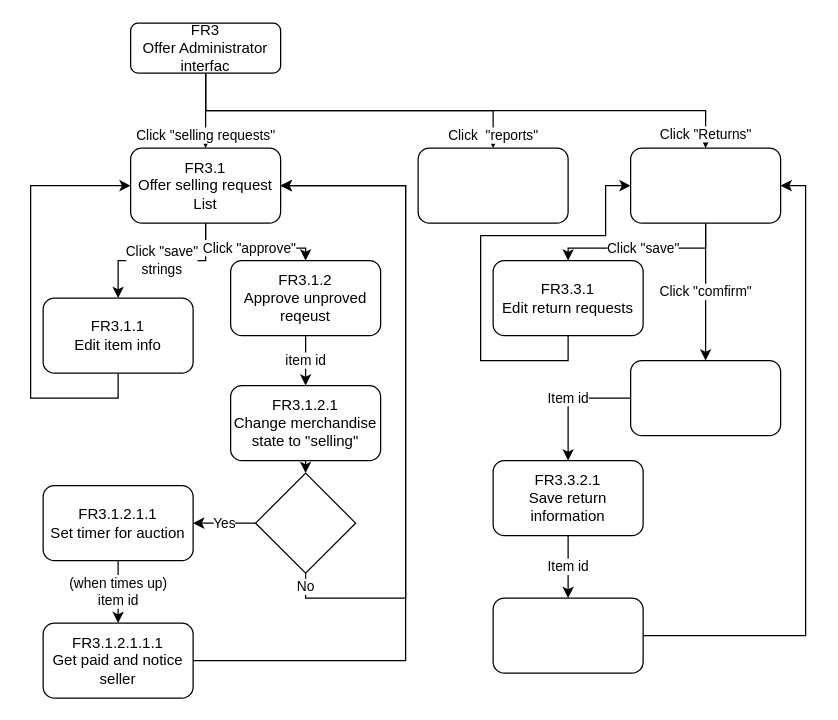
Some shapes in this 838 by 720 pixel diagram are drawn without their labels. The box of each missing label's shape, as (x1, y1, x2, y2) in pixels:
FR3.2 Offer error report List: (417, 147, 568, 223)
FR3.3 View return request List: (629, 147, 781, 223)
FR3.3.2 Call Payback(): (629, 359, 781, 436)
FR3.3.2.1.1 Update the reputation: (492, 597, 643, 673)
if approved request is auction: (254, 472, 356, 573)
